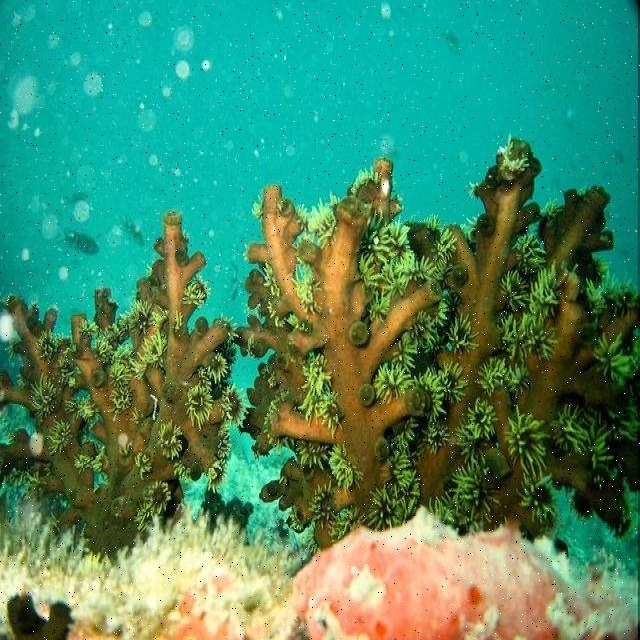reefs: (412, 137, 639, 535), (236, 160, 447, 550), (0, 213, 246, 530)
